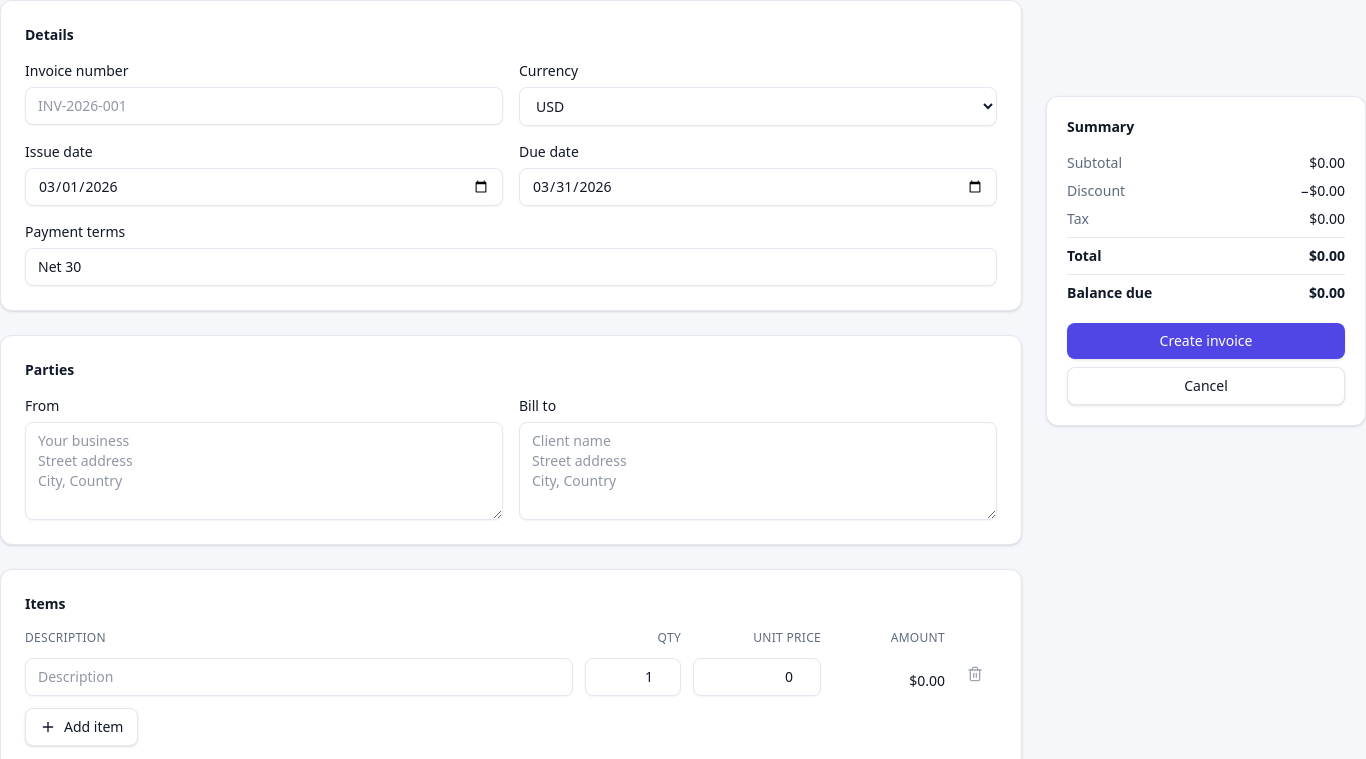
InvoiceForm › adds and removes items
Click the button "Add item": (82, 727) [25,708,138,746]
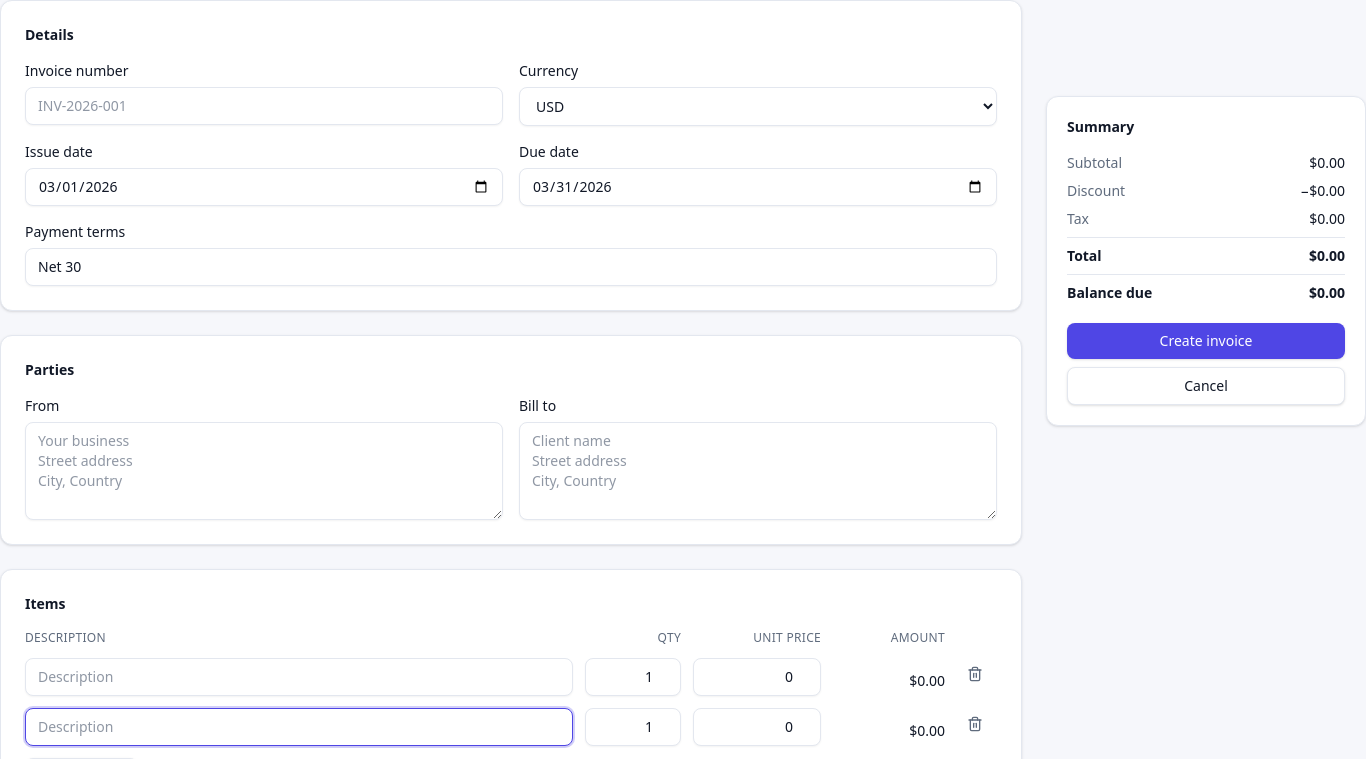
Expected: the field named "Item 2 description" is shown, [25,708,573,746]
Click the button named "Remove item 2": (975, 724) [953,708,997,740]
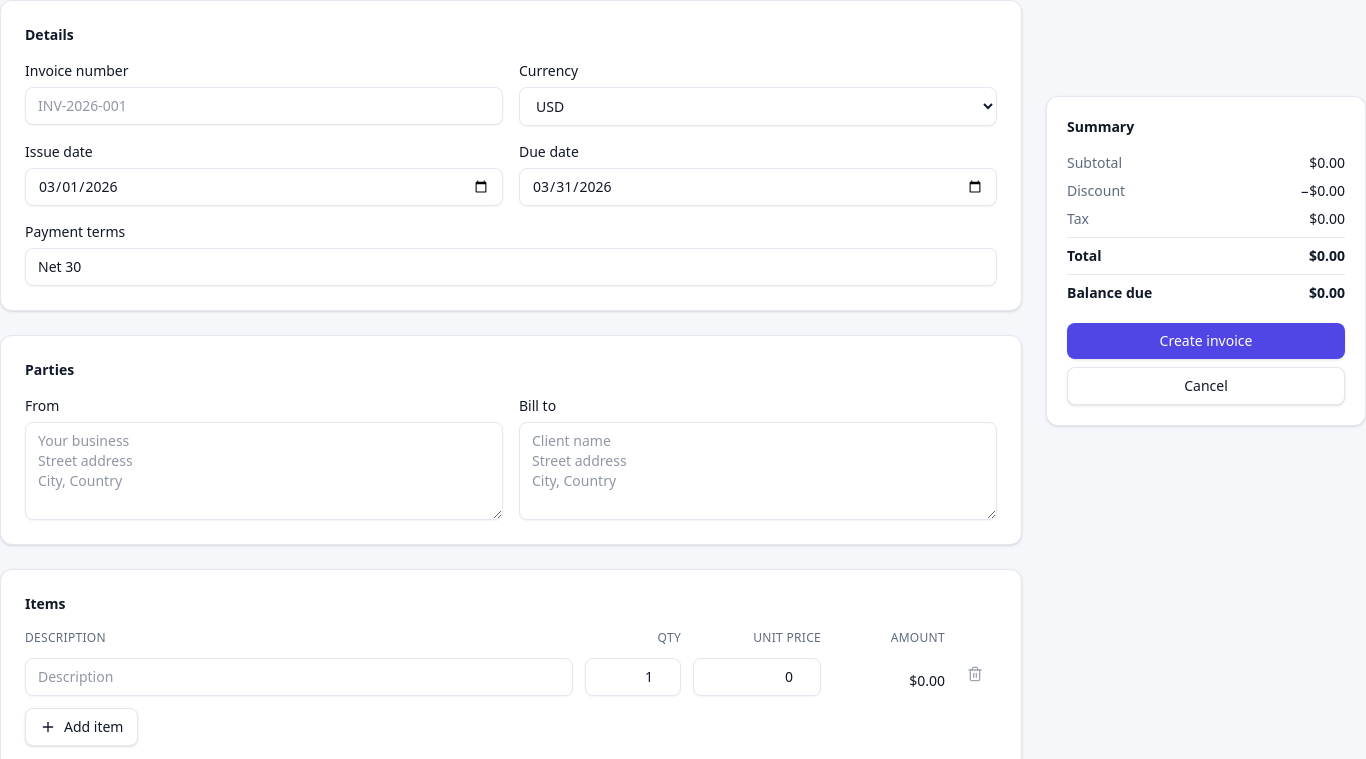
Expected: the button named "Remove item 1" is disabled, [953,658,997,690]
